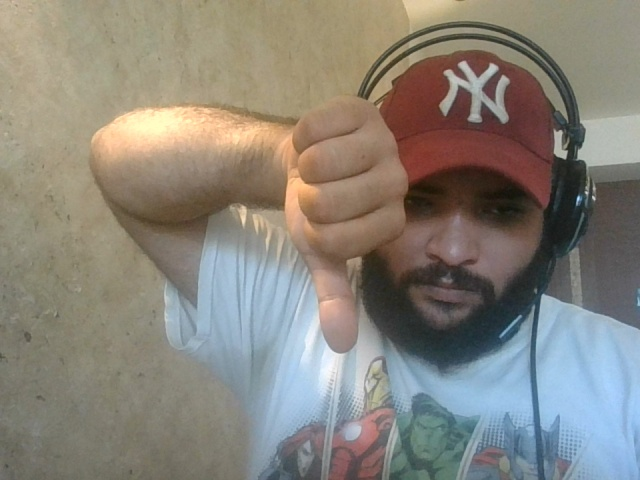no: (281, 92, 409, 358)
